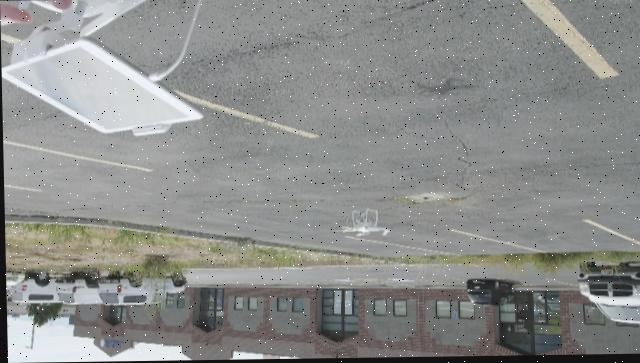drone: (338, 209, 388, 239)
